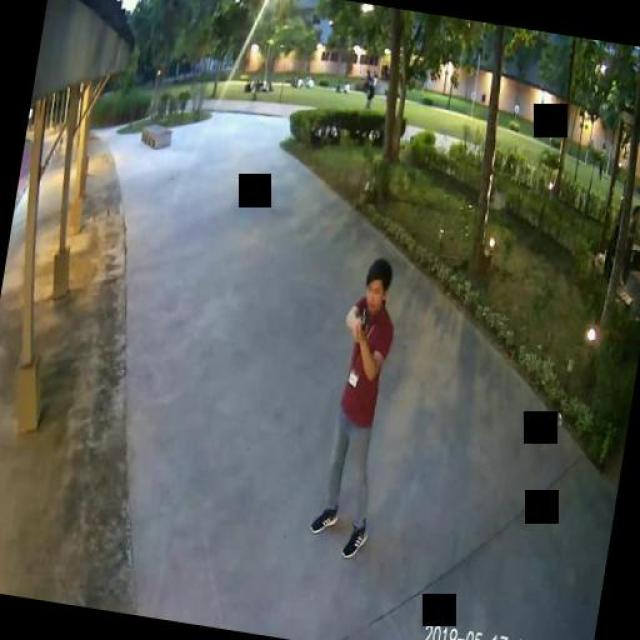gun: (352, 304, 368, 341)
